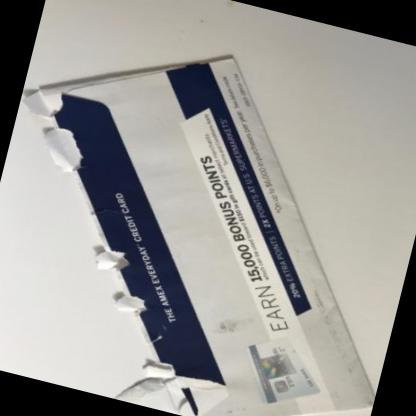Paper: (24, 58, 374, 416)
